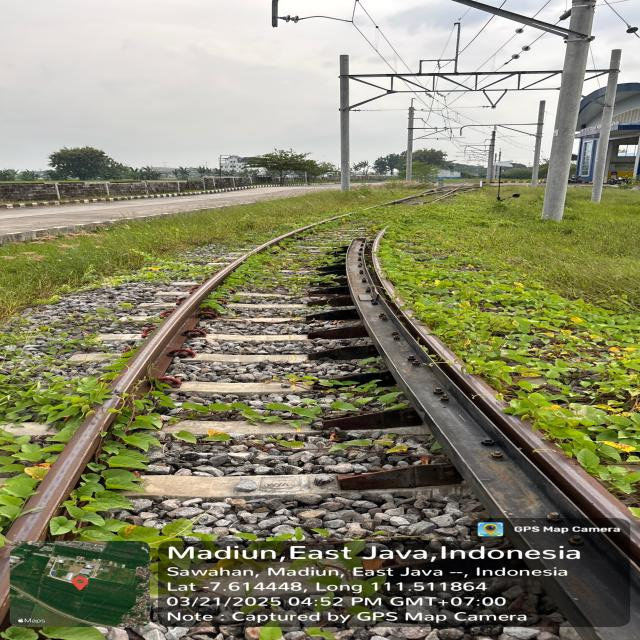rail-detection: (346, 231, 640, 640), (111, 254, 251, 396), (9, 396, 120, 542), (271, 238, 271, 239), (269, 241, 269, 242)
